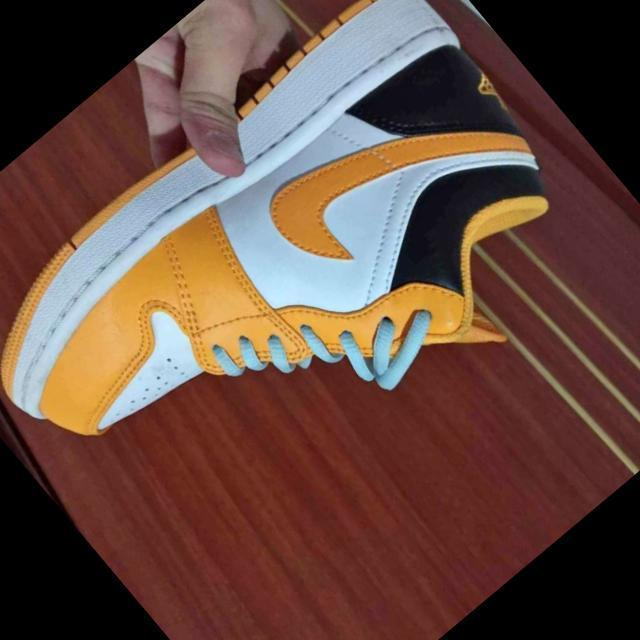nike original jordan 1: (0, 0, 631, 613)
